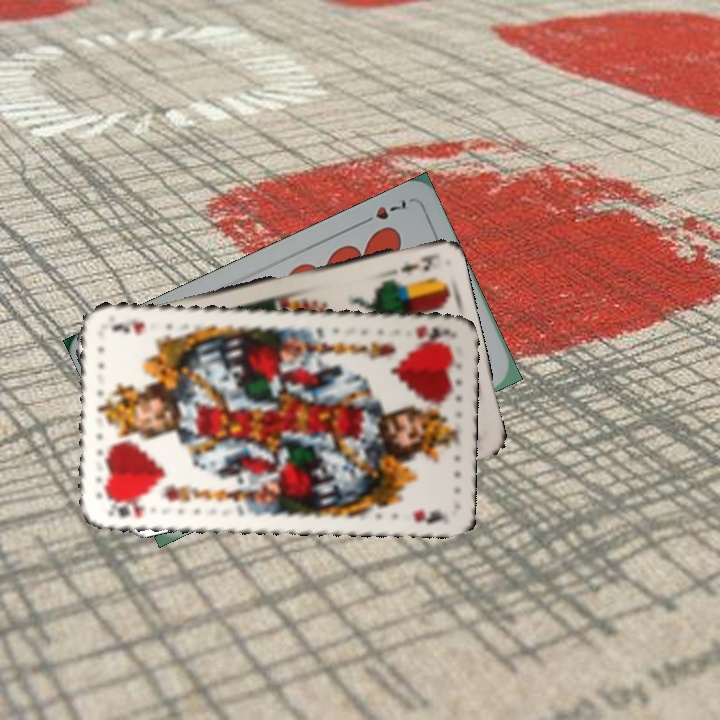EK: (397, 250, 438, 277)
H7: (356, 195, 409, 228)
HK: (103, 495, 148, 521), (411, 321, 452, 343)
